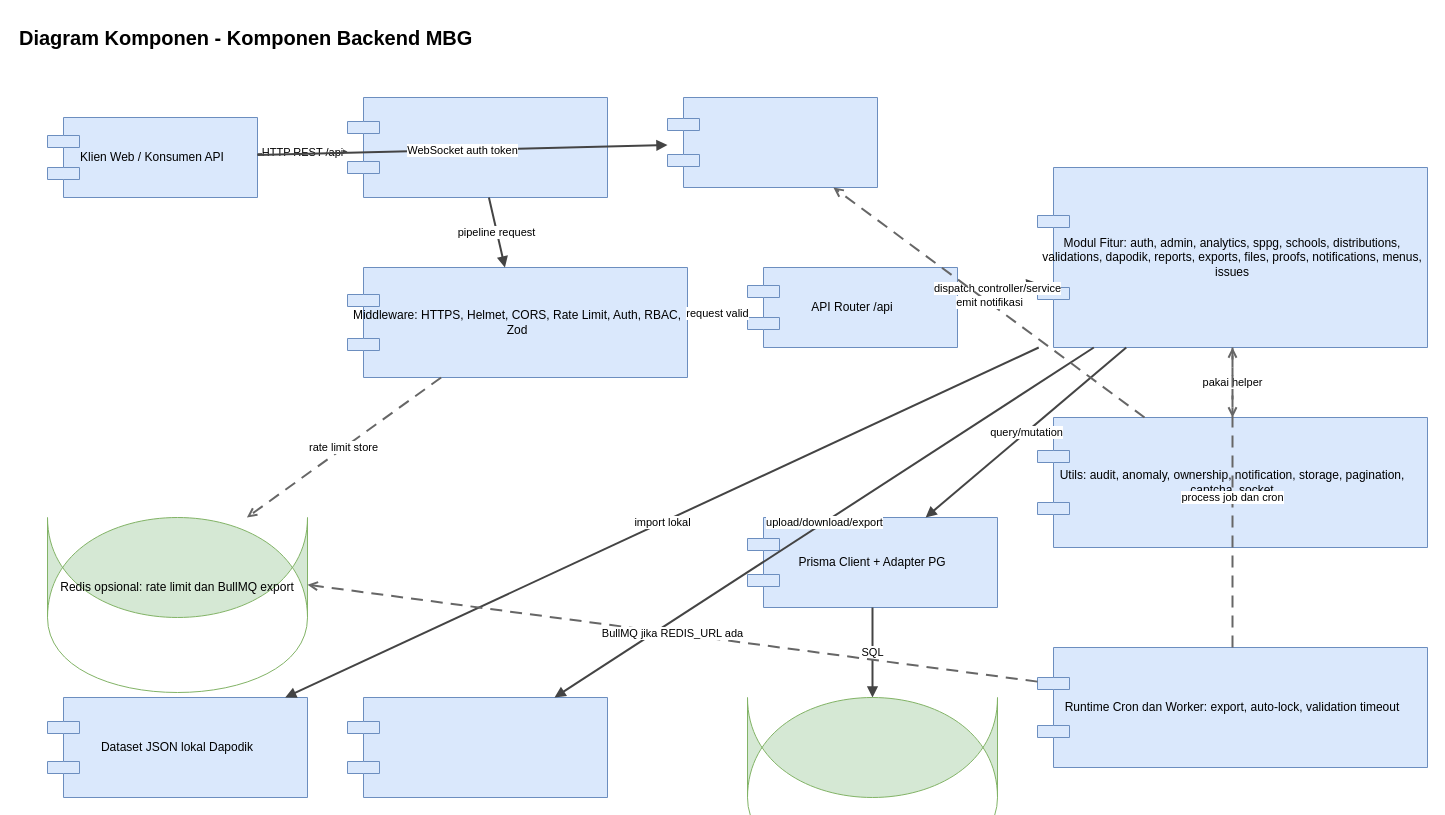
Some shapes in this 1445 by 815 pixel diagram are drawn without their labels. The centre of each missing label's shape, as x and y in pixels:
"Express App + HTTP Server" belongs at point 477,147.
"PostgreSQL Database" belongs at point 872,747.
"Socket.IO Server" belongs at point 772,142.
"Storage file: lokal / Cloudflare R2" belongs at point 477,747.
